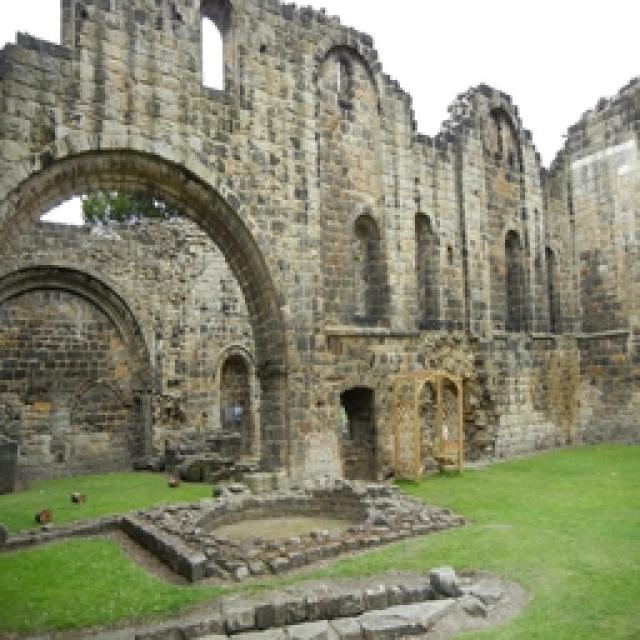Abbey: (5, 4, 622, 491)
